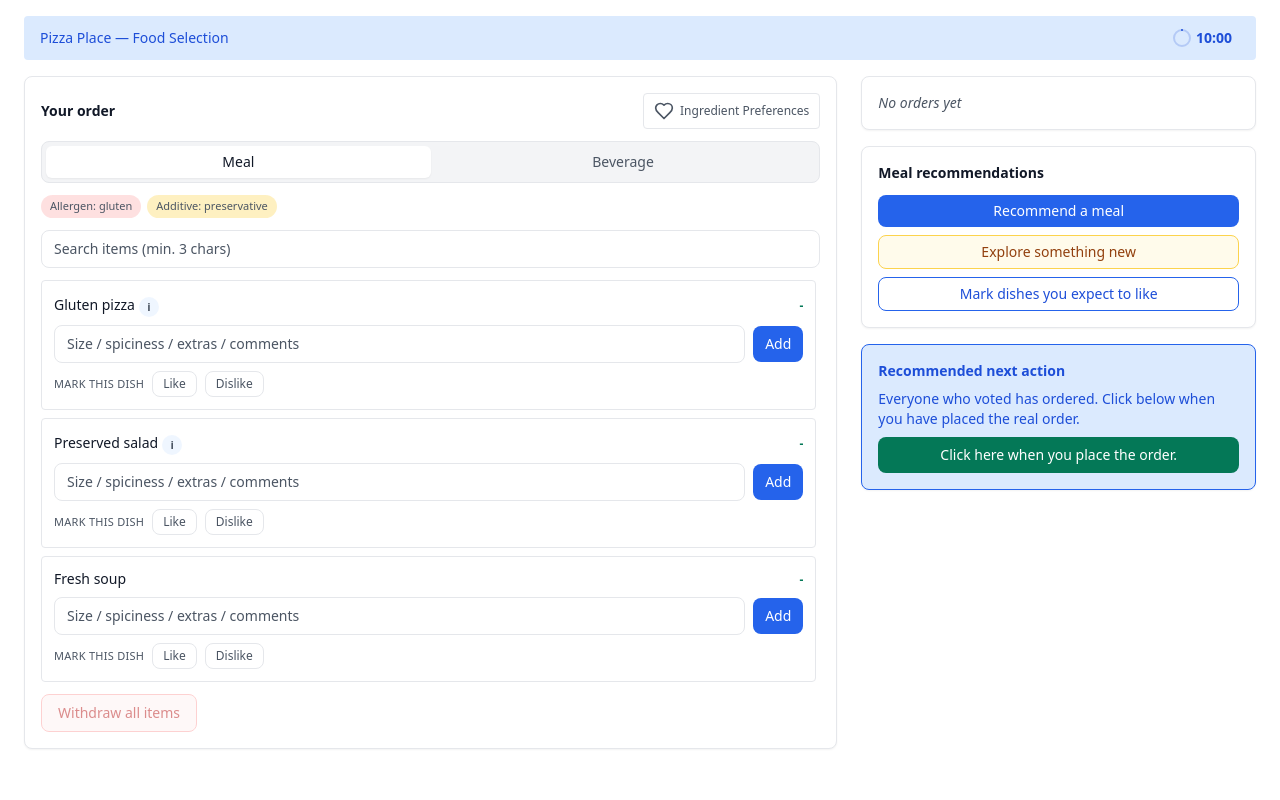
Test: FoodSelectionActiveView › hides items matching selected allergen or additive exclusions and restores them when toggled
Step 1. Click the button with aria-label "Exclude allergen gluten" → (91, 206), box [41,195,141,218]
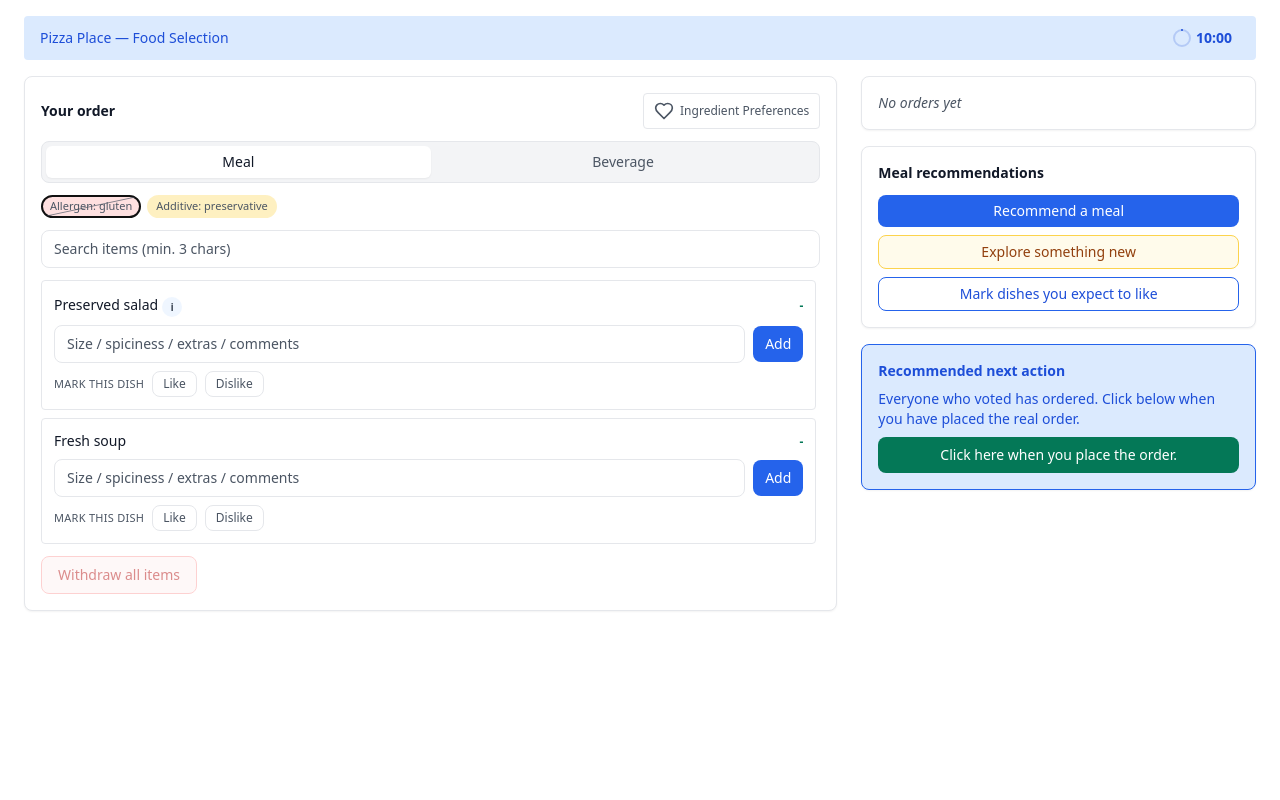
Expected: the text "Preserved salad" is shown, [54,295,158,314]
Expected: the text "Gluten pizza" is gone
Step 2. Click the button with aria-label "Exclude additive preservative" → (212, 206), box [147,195,277,218]
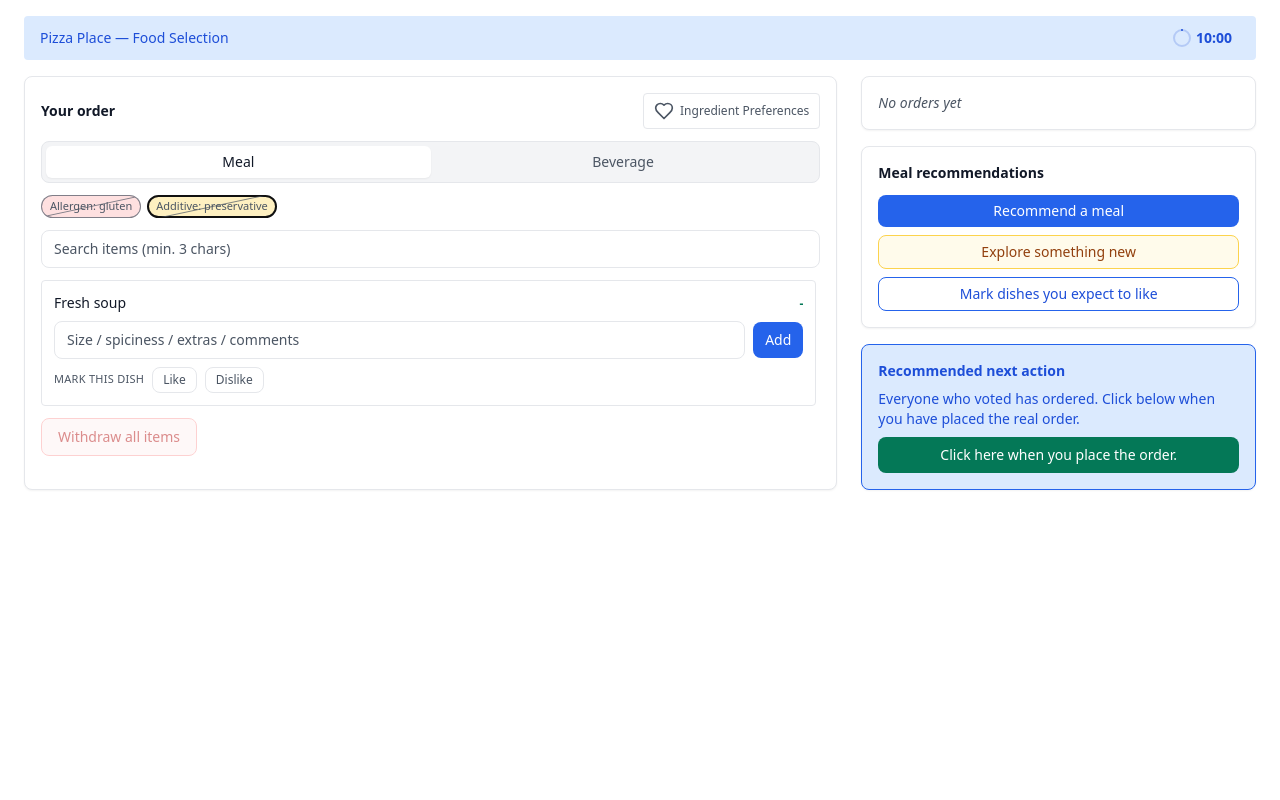
Expected: the text "Fresh soup" is shown, [54,292,126,312]
Expected: the text "Preserved salad" is gone
Step 3. Click the button with aria-label "Exclude allergen gluten" → (91, 206), box [41,195,141,218]
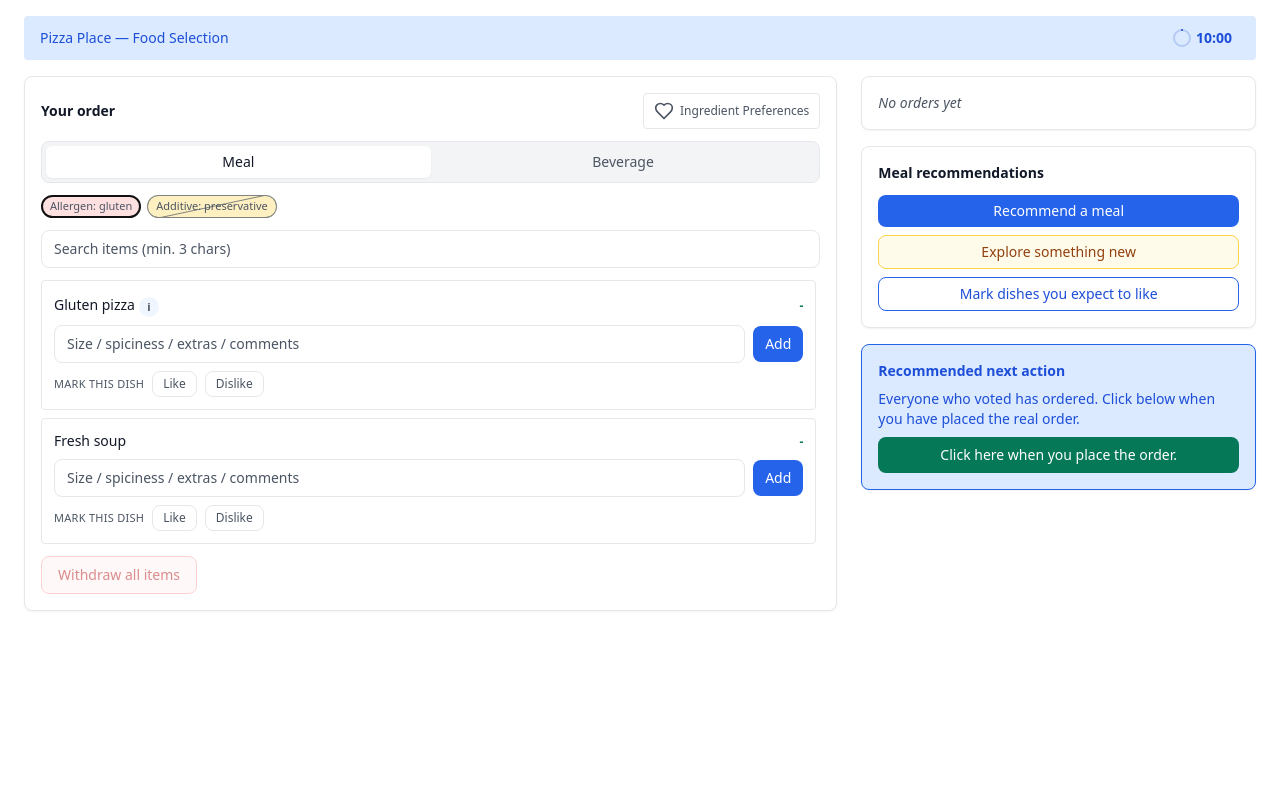
Expected: the text "Preserved salad" is not shown
Expected: the text "Gluten pizza" is shown, [54,295,135,314]
Step 4. Click the button with aria-label "Exclude additive preservative" → (212, 206), box [147,195,277,218]
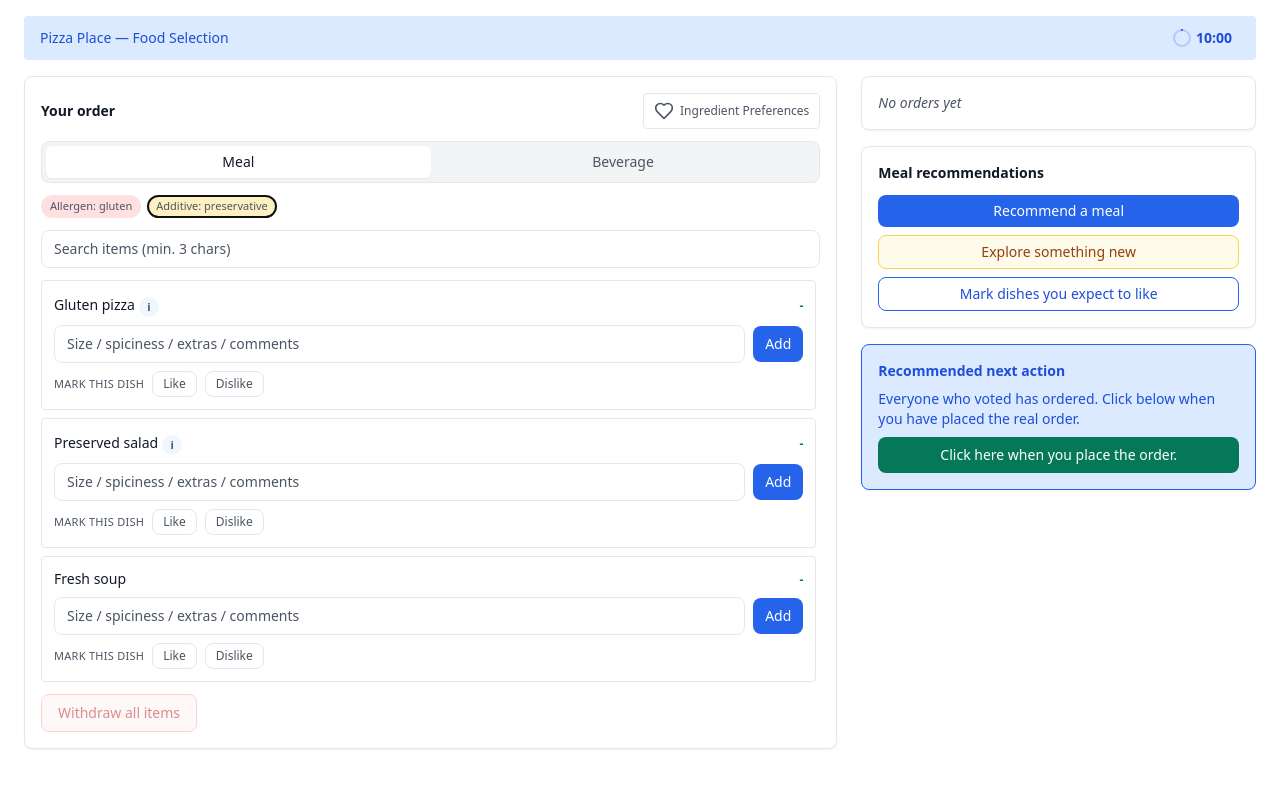
Expected: the text "Preserved salad" is shown, [54,433,158,452]
